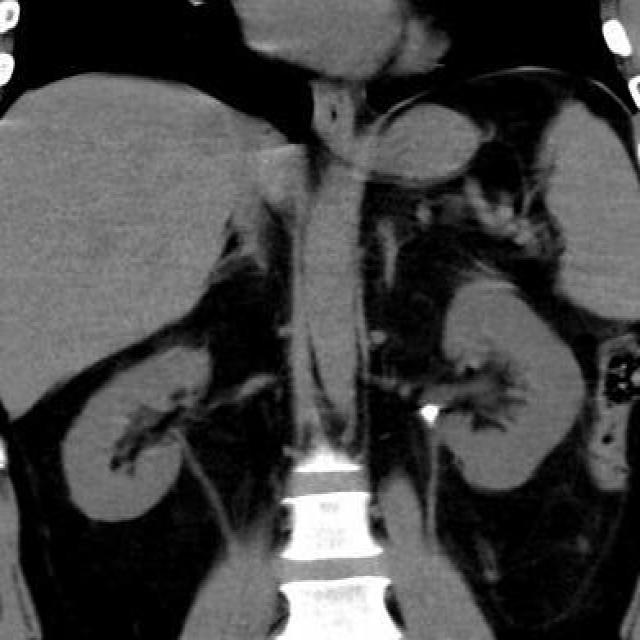Tas_Var: (422, 399, 439, 427)
